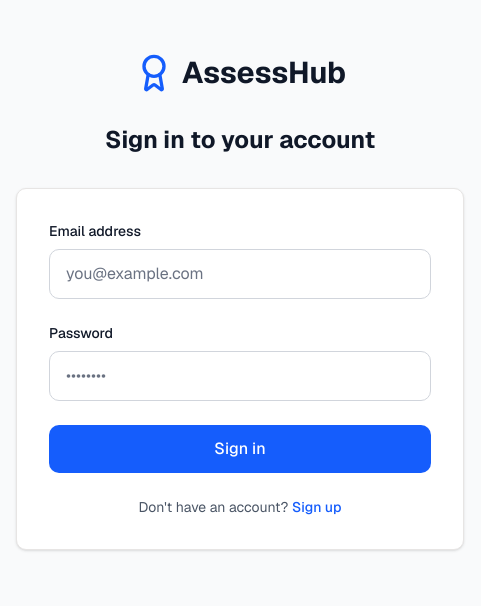
LoginPage › displays error message on failed login
Type "test@example.com" into the field labelled "Email address".
click(240, 274); type("test@example.com")  # box [49,248,431,298]
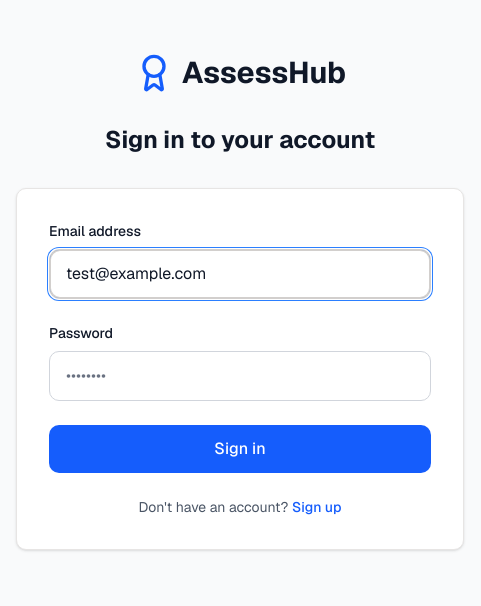
Type "wrongpassword" into the password field labelled "Password".
click(240, 376); type("wrongpassword")  # box [49,350,431,400]
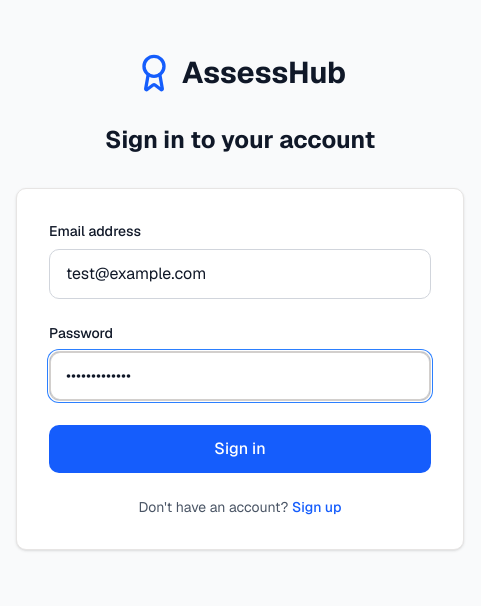
Click the button "Sign in".
click(240, 448)  # box [49,424,431,472]
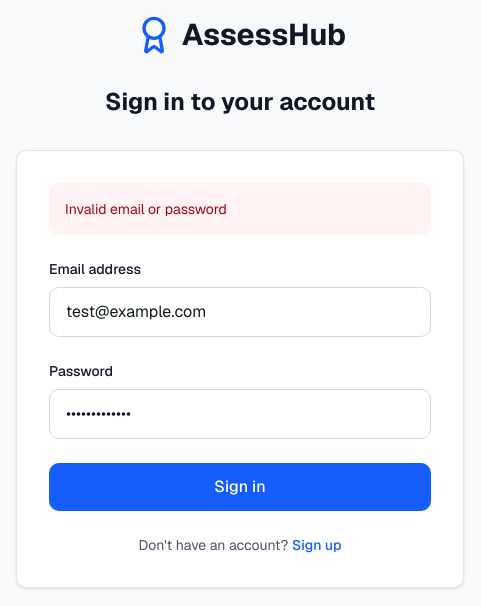
Check: the text "Invalid email or password" is shown, box [49,182,431,234]
